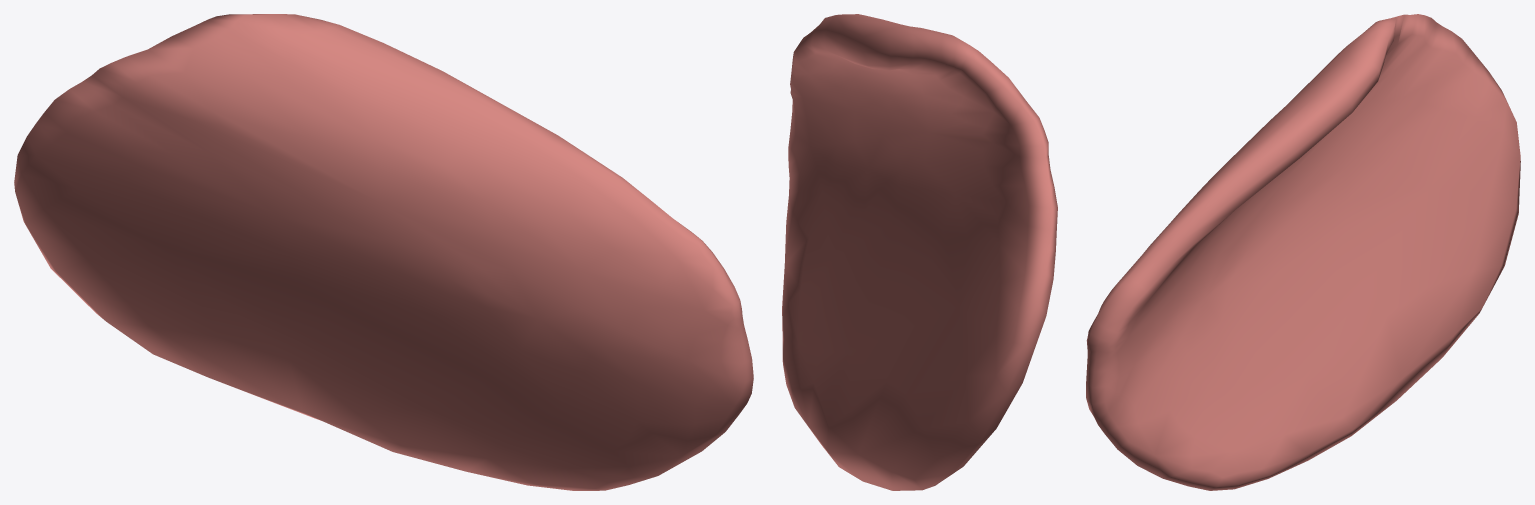
3 views of the same model, side by side, from view 1: azimuth 30°, elevation 25°; view 2: azimuth 150°, elevation 25°; view 3: azimuth 270°, elevation 25° (orthographic). The views are drawn at different scales.
Parts seen in each view (by area): view 1: ZA_df40698ceeca00b0; view 2: ZA_df40698ceeca00b0; view 3: ZA_df40698ceeca00b0.
Boxes of the visible parts, bbox=[...] form: ZA_df40698ceeca00b0: bbox=[14, 14, 753, 490]; ZA_df40698ceeca00b0: bbox=[782, 14, 1057, 490]; ZA_df40698ceeca00b0: bbox=[1086, 14, 1520, 490].
Size of the model in its own units: 0.00648 by 0.00593 by 0.00624.
